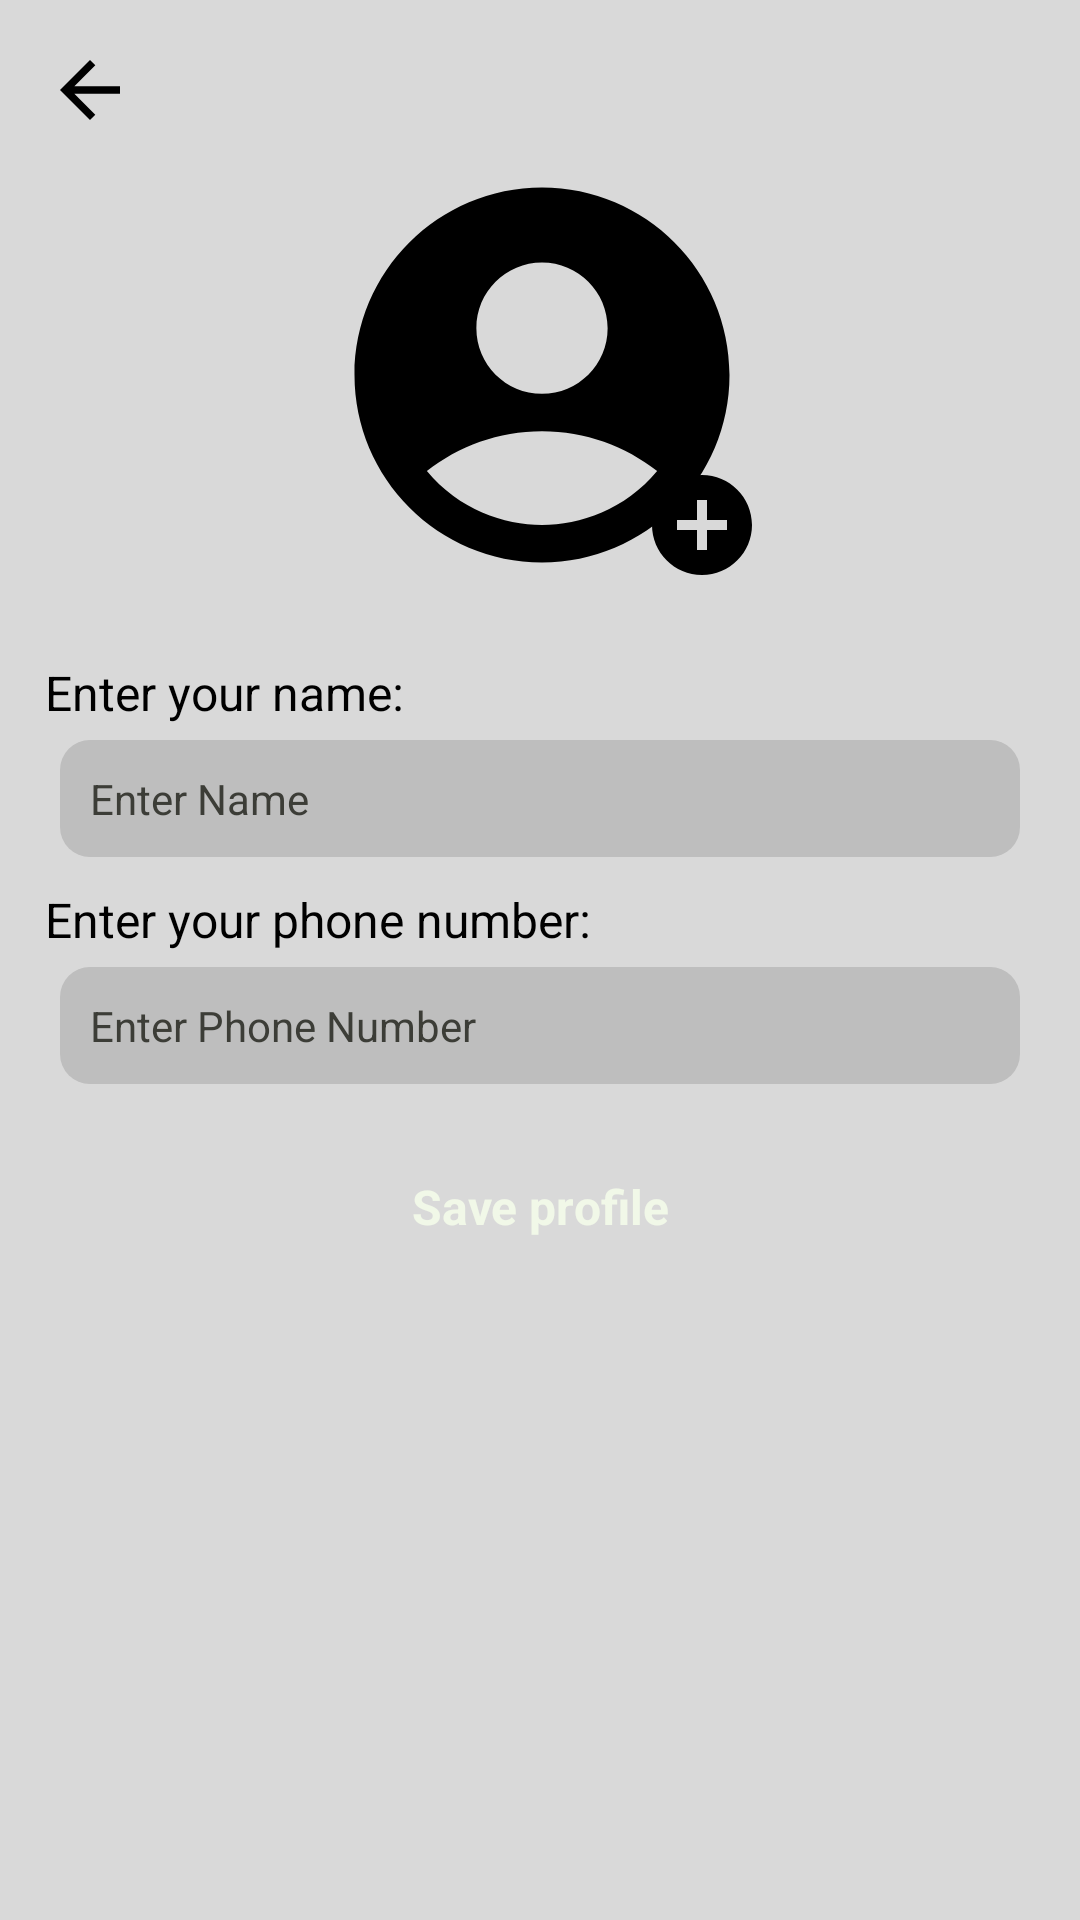

Named icons in this screenshot (1080*1920) and their bounding boxes, [x1, y1, x2, y2]:
Back arrow description: [60, 60, 120, 120]
